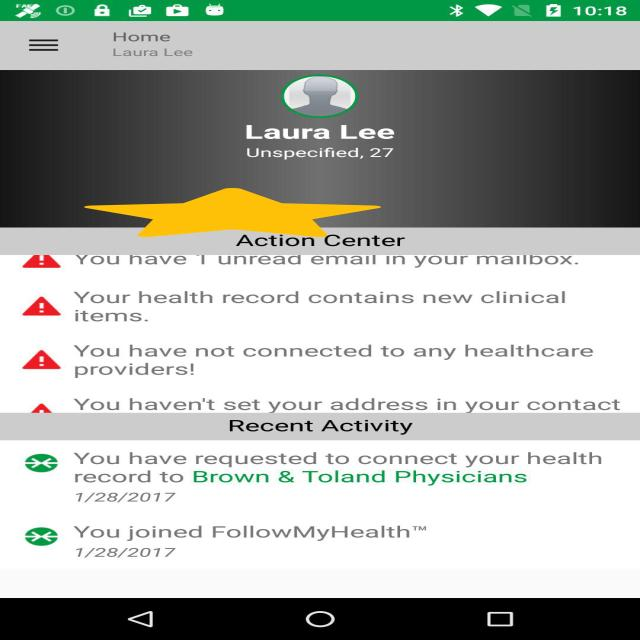forced continuity: (84, 188, 381, 237)
